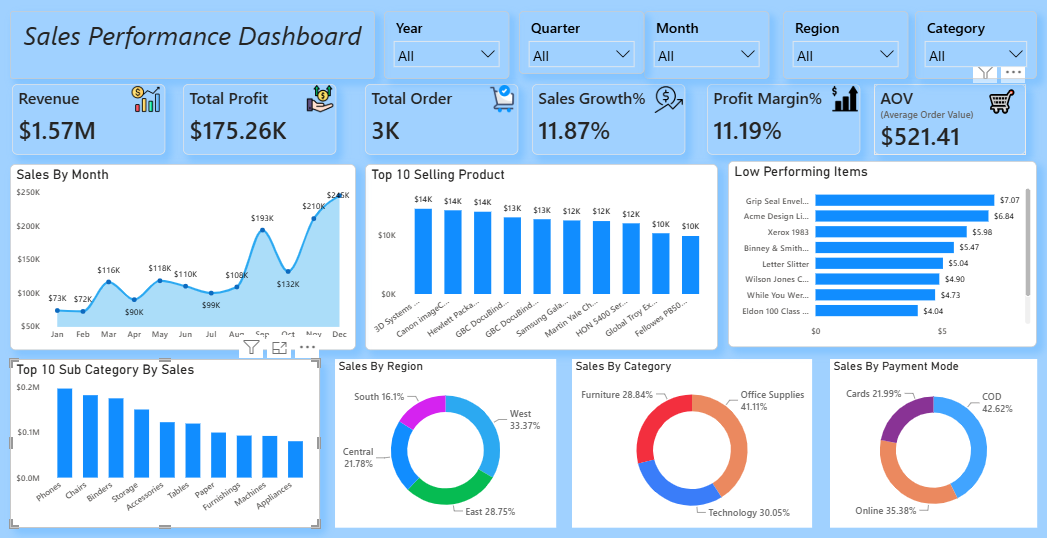

What the dashboard file says about the page in this screenshot:
{"tool":"powerbi","page":{"name":"Page 1","canvas":[1496,770],"ordinal":0},"visuals":[{"type":"textbox","box":[14.3,15.7,521.4,97.1],"z":0},{"type":"cardVisual","title":"Revenue","fields":{"Data":["Measure's.Total Revenue"]},"box":[17.1,120,218.6,101.4],"z":1000},{"type":"cardVisual","title":"Total Profit","fields":{"Data":["Measure's.Total Profit"]},"box":[261.4,120,218.6,101.4],"z":2000},{"type":"cardVisual","title":"Profit Margin%","fields":{"Data":["Measure's.Profit Margin %"]},"box":[1010,120,218.6,101.4],"z":3000},{"type":"cardVisual","title":"Total Order","fields":{"Data":["Measure's.Total Order"]},"box":[521.4,120,218.6,101.4],"z":4000},{"type":"cardVisual","title":"AOV","fields":{"Data":["Measure's.Average order value"]},"box":[1248.6,120,217.1,101.4],"z":5000},{"type":"cardVisual","title":"Sales Growth%","fields":{"Data":["Measure's.Sales Growth"]},"box":[760,120,218.6,101.4],"z":6000},{"type":"columnChart","title":"Top 10 Selling Product","fields":{"Y":["Measure's.Total Revenue"],"Category":["Sheet1.Product Name"]},"box":[521.4,234.3,504.3,265.7],"z":7000},{"type":"donutChart","title":"Sales By Region","fields":{"Category":["Sheet1.Region"],"Y":["Measure's.Total Revenue"]},"box":[478.6,512.9,315.7,241.4],"z":8000},{"type":"donutChart","title":"Sales By Category","fields":{"Y":["Measure's.Total Revenue"],"Category":["Sheet1.Category"]},"box":[817.1,512.9,342.9,241.4],"z":9000},{"type":"slicer","fields":{"Values":["Date.Year"]},"box":[548.6,15.7,178.6,97.1],"z":10000},{"type":"slicer","fields":{"Values":["Date.Month"]},"box":[920,15.7,178.6,97.1],"z":11000},{"type":"slicer","fields":{"Values":["Sheet1.Region"]},"box":[1118.6,15.7,178.6,97.1],"z":12000},{"type":"slicer","fields":{"Values":["Sheet1.Category"]},"box":[1307.1,15.7,174.3,97.1],"z":13000},{"type":"barChart","title":"Low Performing Items","fields":{"Category":["Sheet1.Product Name"],"Y":["Measure's.Total Revenue"]},"box":[1040,230,441.4,265.7],"z":14000},{"type":"columnChart","title":"Top 10 Sub Category By Sales","fields":{"Category":["Sheet1.Sub-Category"],"Y":["Measure's.Total Revenue"]},"box":[14.3,512.9,442.9,241.4],"z":15000},{"type":"donutChart","title":"Sales By Payment Mode","fields":{"Category":["Sheet1.Payment Mode"],"Y":["Measure's.Total Revenue"]},"box":[1185.7,512.9,295.7,241.4],"z":16000},{"type":"textbox","box":[1404.3,115.7,61.4,55.7],"z":17000},{"type":"areaChart","title":"Sales By Month ","fields":{"Category":["Date.Month","Date.Quater"],"Y":["Measure's.Total Revenue"]},"box":[14.3,234.3,494.3,265.7],"z":18000},{"type":"slicer","fields":{"Values":["Date.Quater"]},"box":[741.4,15.7,178.6,90],"z":19000},{"type":"image","box":[434.3,121.4,45.7,38.6],"z":20000},{"type":"image","box":[180,121.4,55.7,40],"z":21000},{"type":"image","box":[931.4,121.4,47.1,40],"z":22000},{"type":"image","box":[694.3,121.4,45.7,38.6],"z":23000},{"type":"image","box":[1185.7,121.4,42.9,38.6],"z":24000}]}

Visuals, with their boxes in screenshot pixels (x1, y1, x2, y2), scaled from the page's 1496x770 canvas onto the 1047x538 screenshot:
textbox: 10,11,375,79
"Revenue" cardVisual: 12,84,165,155
"Total Profit" cardVisual: 183,84,336,155
"Profit Margin%" cardVisual: 707,84,860,155
"Total Order" cardVisual: 365,84,518,155
"AOV" cardVisual: 874,84,1026,155
"Sales Growth%" cardVisual: 532,84,685,155
"Top 10 Selling Product" columnChart: 365,164,718,349
"Sales By Region" donutChart: 335,358,556,527
"Sales By Category" donutChart: 572,358,812,527
slicer - Date.Year: 384,11,509,79
slicer - Date.Month: 644,11,769,79
slicer - Sheet1.Region: 783,11,908,79
slicer - Sheet1.Category: 915,11,1037,79
"Low Performing Items" barChart: 728,161,1037,346
"Top 10 Sub Category By Sales" columnChart: 10,358,320,527
"Sales By Payment Mode" donutChart: 830,358,1037,527
textbox: 983,81,1026,120
"Sales By Month " areaChart: 10,164,356,349
slicer - Date.Quater: 519,11,644,74
image: 304,85,336,112
image: 126,85,165,113
image: 652,85,685,113
image: 486,85,518,112
image: 830,85,860,112
